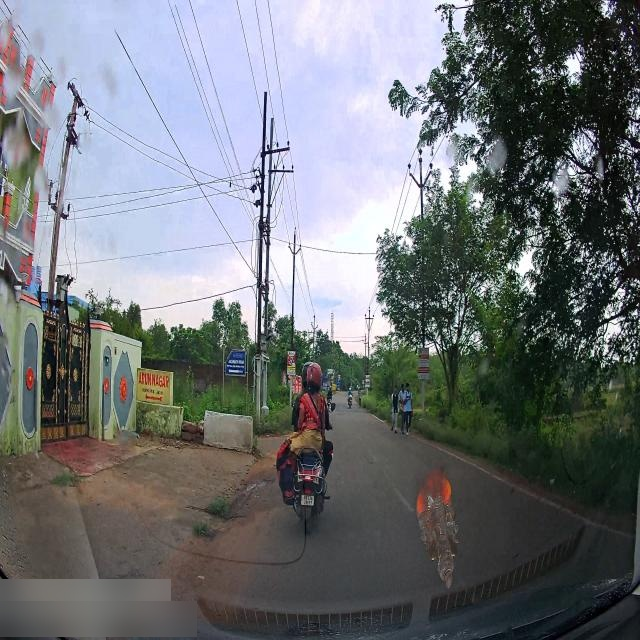pothole: (239, 480, 268, 495)
